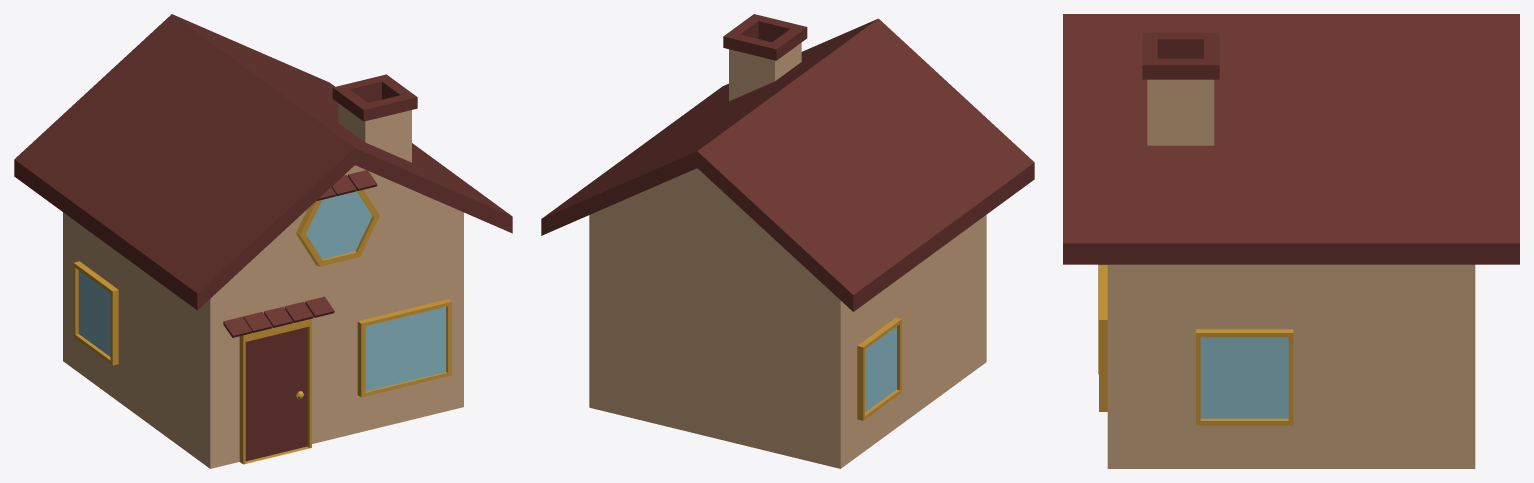
Rendered from low poly house.fbx.
The picture shows the model from 3 angles, left to right: view 1: azimuth 30°, elevation 25°; view 2: azimuth 150°, elevation 25°; view 3: azimuth 270°, elevation 25°; orthographic projection. The views are drawn at different scales.
Visible parts, largest first — view 1: Cube; view 2: Cube; view 3: Cube.
Part boxes in pixels (x1,y1,x2,y2): Cube: (14,14,512,468); Cube: (541,14,1034,468); Cube: (1063,14,1519,468).
Size of the model in its own units: 329 by 307 by 331.
